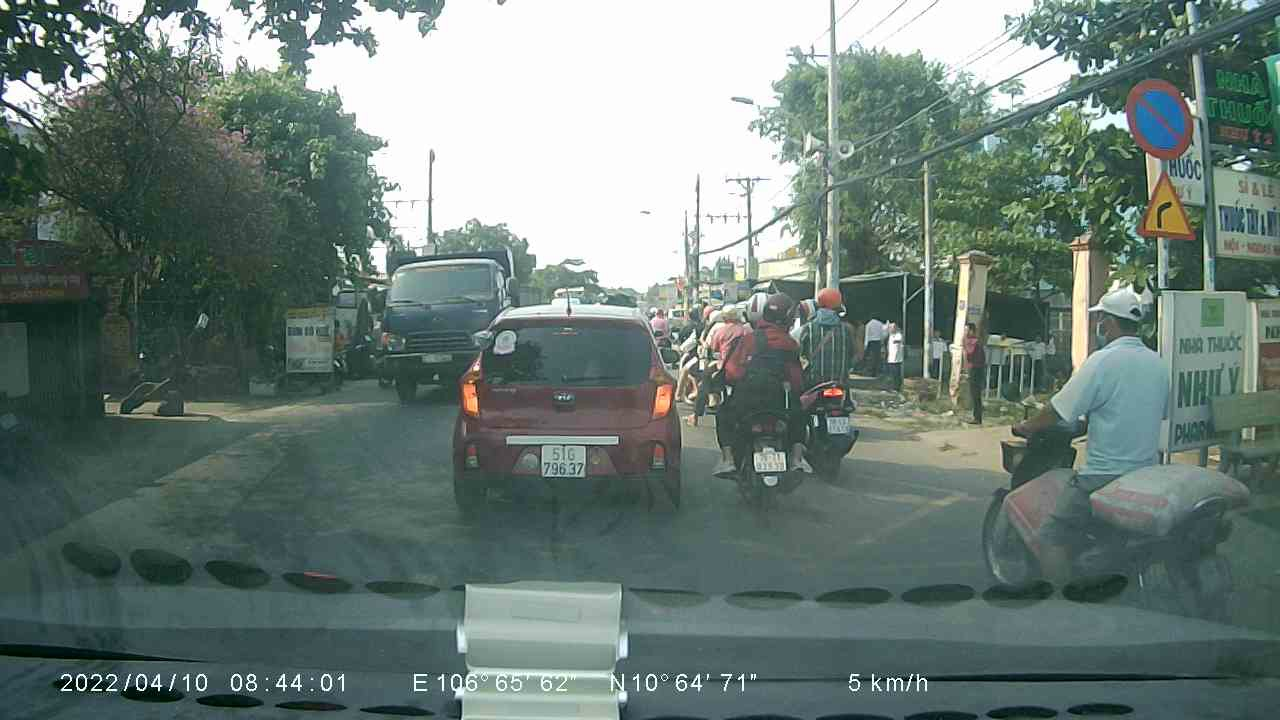Bien khac: (1135, 168, 1198, 245)
Cam do xe: (1126, 74, 1197, 162)
